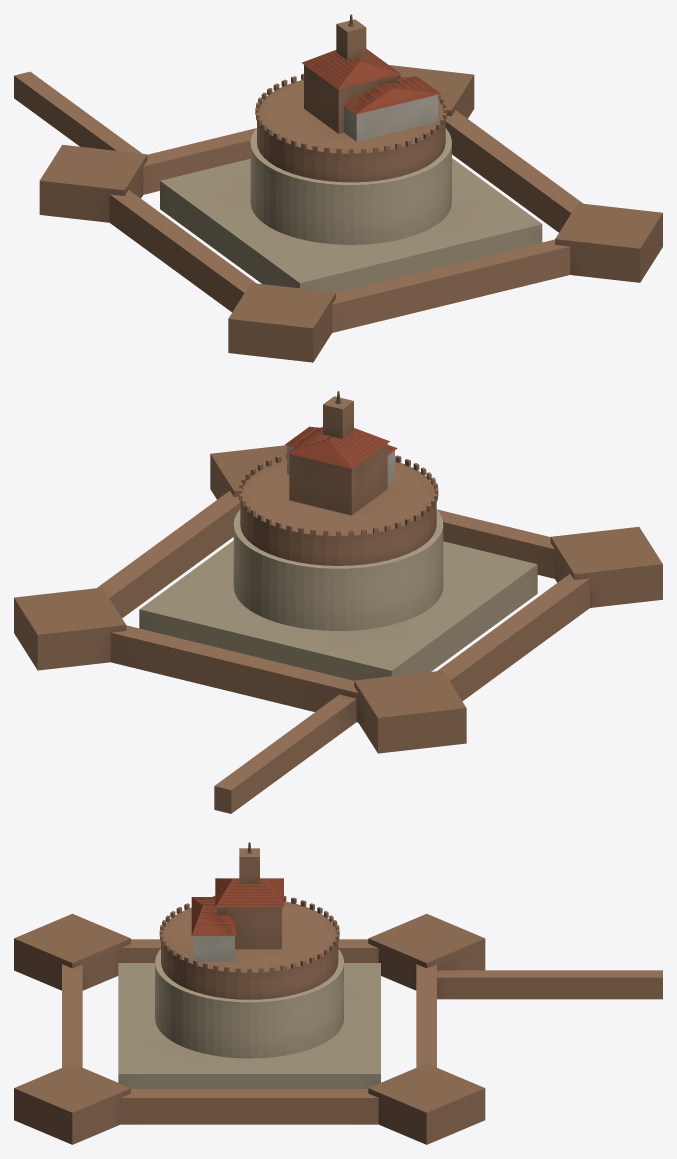
File: castel-santangelo-renaissance.glb
3 views of the same model, one above another, from view 1: azimuth 30°, elevation 25°; view 2: azimuth 150°, elevation 25°; view 3: azimuth 270°, elevation 25° (orthographic). The views are drawn at different scales.
Visible parts, largest first — view 1: p0_base, p1_drum, p2_castle; view 2: p0_base, p1_drum, p2_castle; view 3: p0_base, p1_drum, p2_castle.
Part boxes in pixels (<box>): p0_base: <box>14,65,662,362</box>; p1_drum: <box>250,73,451,244</box>; p2_castle: <box>301,14,440,141</box>; p0_base: <box>14,445,662,813</box>; p1_drum: <box>233,453,443,630</box>; p2_castle: <box>285,391,397,515</box>; p0_base: <box>14,913,662,1144</box>; p1_drum: <box>155,895,343,1058</box>; p2_castle: <box>191,842,283,961</box>.
Size of the model in its own units: 160 by 75.98 by 220.
